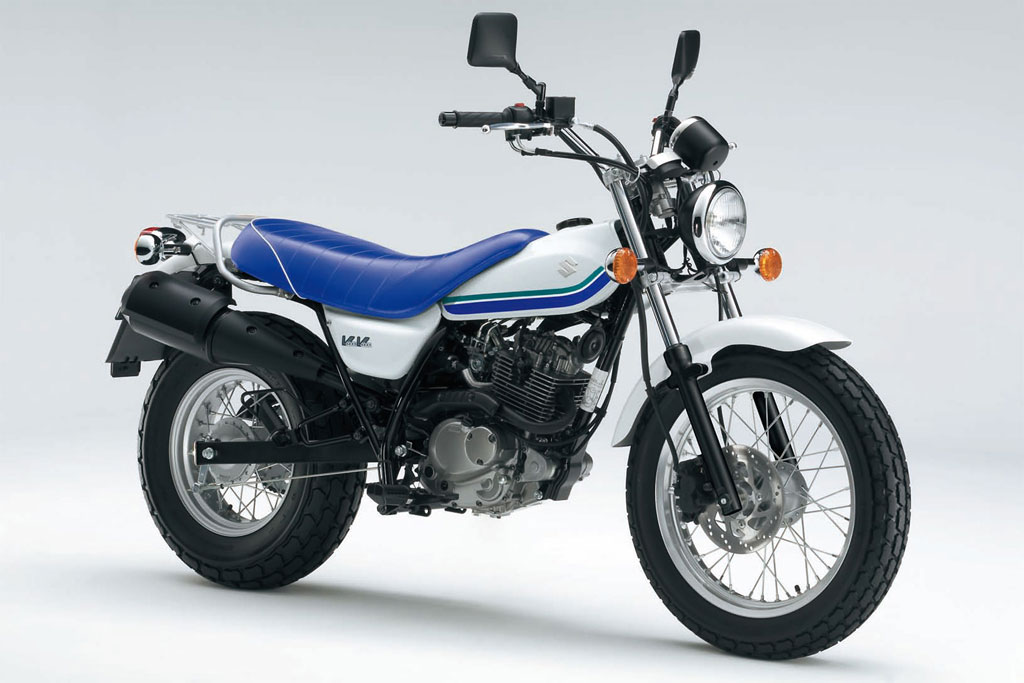motorcycle: (123, 98, 905, 656)
